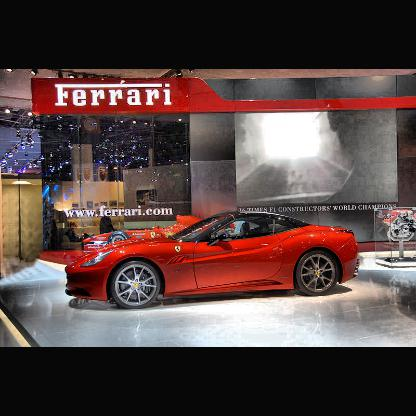Ferrari California Convertible 2012: (67, 210, 362, 311)
